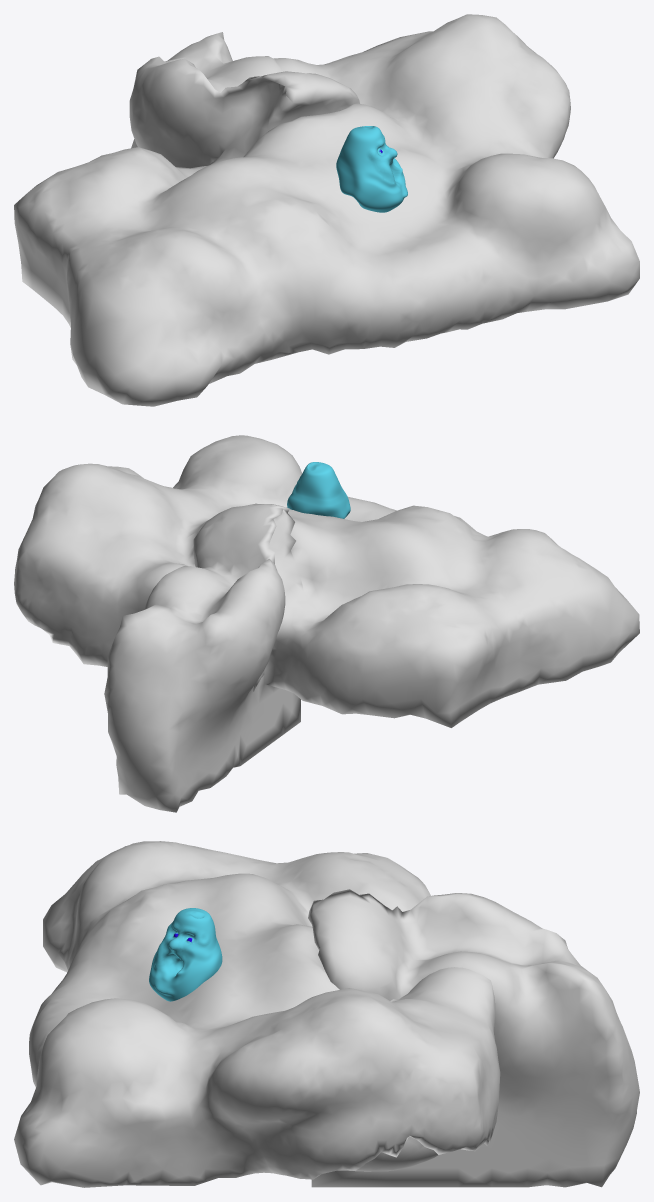
The model's file is OgreScene 1.fbx.
3 renders of one model, top to bottom at view 1: azimuth 30°, elevation 25°; view 2: azimuth 150°, elevation 25°; view 3: azimuth 270°, elevation 25°, orthographic. The views are drawn at different scales.
Visible parts, largest first — view 1: Cube, Sphere; view 2: Cube, Sphere; view 3: Cube, Sphere.
Boxes of the visible parts, x1,y1,x2,y2 form: Cube: (14, 14, 639, 406); Sphere: (336, 126, 407, 212); Cube: (14, 435, 639, 812); Sphere: (287, 462, 350, 518); Cube: (14, 841, 639, 1187); Sphere: (149, 908, 222, 1001).
Bounding box in the file's own units: 1595 × 681 × 1451.
